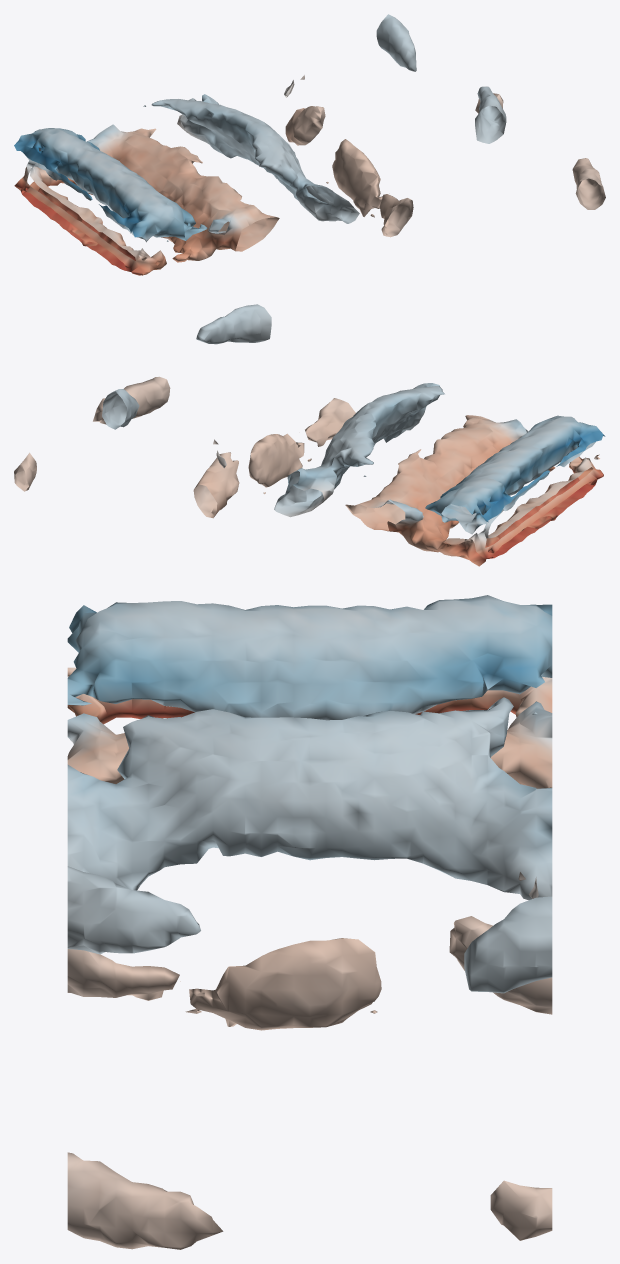
The picture shows the model from 3 angles, top to bottom: view 1: azimuth 30°, elevation 25°; view 2: azimuth 150°, elevation 25°; view 3: azimuth 270°, elevation 25°; orthographic projection. The views are drawn at different scales.
Size of the model in its own units: 5.7 by 1.51 by 2.5.
